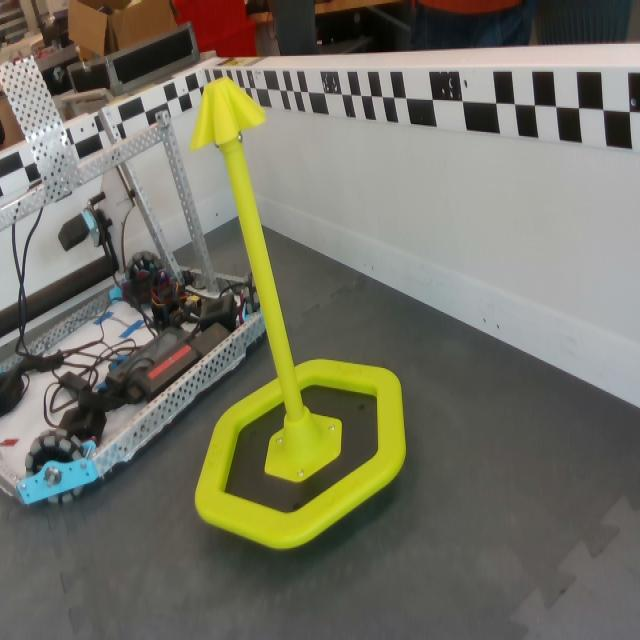Mobile-Goal: (186, 77, 407, 554)
Yellow-Stake-Head: (190, 76, 270, 152)
